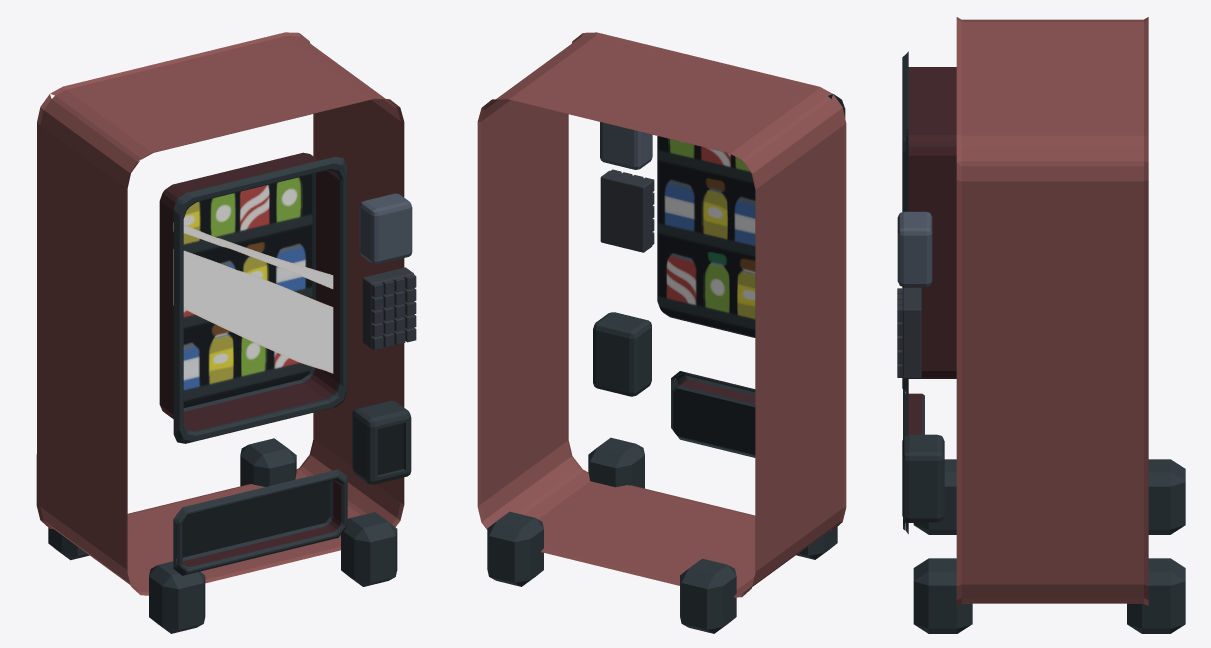
The model's file is 3D_Vending_Machine.fbx.
3 views of the same model, side by side, from view 1: azimuth 30°, elevation 25°; view 2: azimuth 150°, elevation 25°; view 3: azimuth 270°, elevation 25° (orthographic). The views are drawn at different scales.
Visible parts, largest first — view 1: 3D_Vending_Machine; view 2: 3D_Vending_Machine; view 3: 3D_Vending_Machine.
Part boxes in pixels (x1=…): 3D_Vending_Machine: x1=36, y1=32, x2=416, y2=633; 3D_Vending_Machine: x1=477, y1=32, x2=846, y2=633; 3D_Vending_Machine: x1=897, y1=17, x2=1185, y2=633.
Size of the model in its own units: 1.5 by 2.44 by 1.32.
